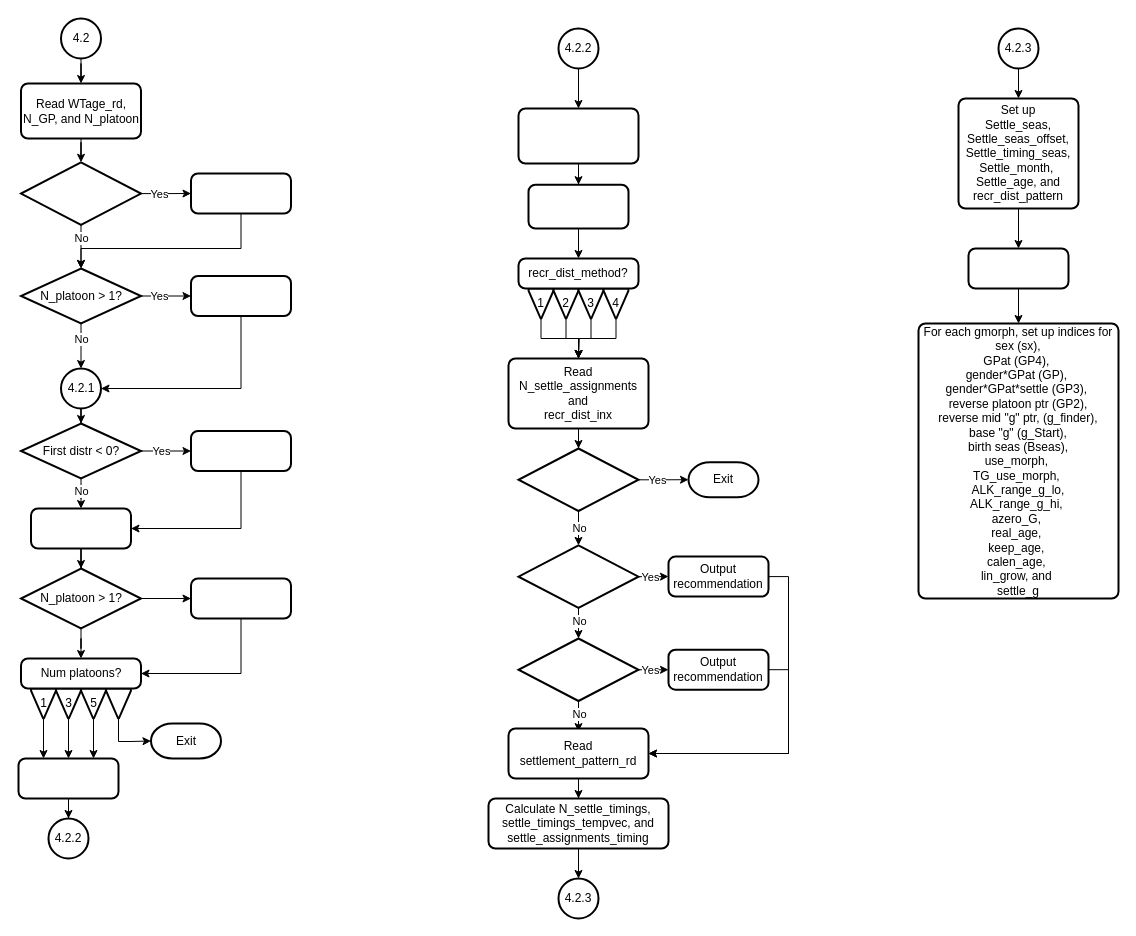
The diagram is 1136 pixels wide and 936 high, and some of its shapes have lost their labels. The shapes that lost their labels are listed below. From the top down, each one's centre as x and y in pixels, then its label:
At [578,135]: "Read recr_dist_method and recr_dist_area".
At [81,193]: "WTage_rd and nobs_mnwt > 1?".
At [241,193]: "Output warning".
At [578,206]: "reset recr_dist_area to 1 (global)".
At [1018,268]: "Calculate gmorph".
At [241,295]: "Read sd_ratio and platoon_distr".
At [241,451]: "Assign normal vector".
At [578,479]: "recr_dist_method == 1?".
At [81,528]: "Normalize platoon_distr".
At [578,576]: "recr_dist_method == 2?".
At [241,598]: "Calc sd_between and sd_within".
At [578,669]: "recr_dist_method == 4 and N_settle_assignments == 1?".
At [118,703]: "else".
At [68,778]: "Fill shadow and ishadow".
